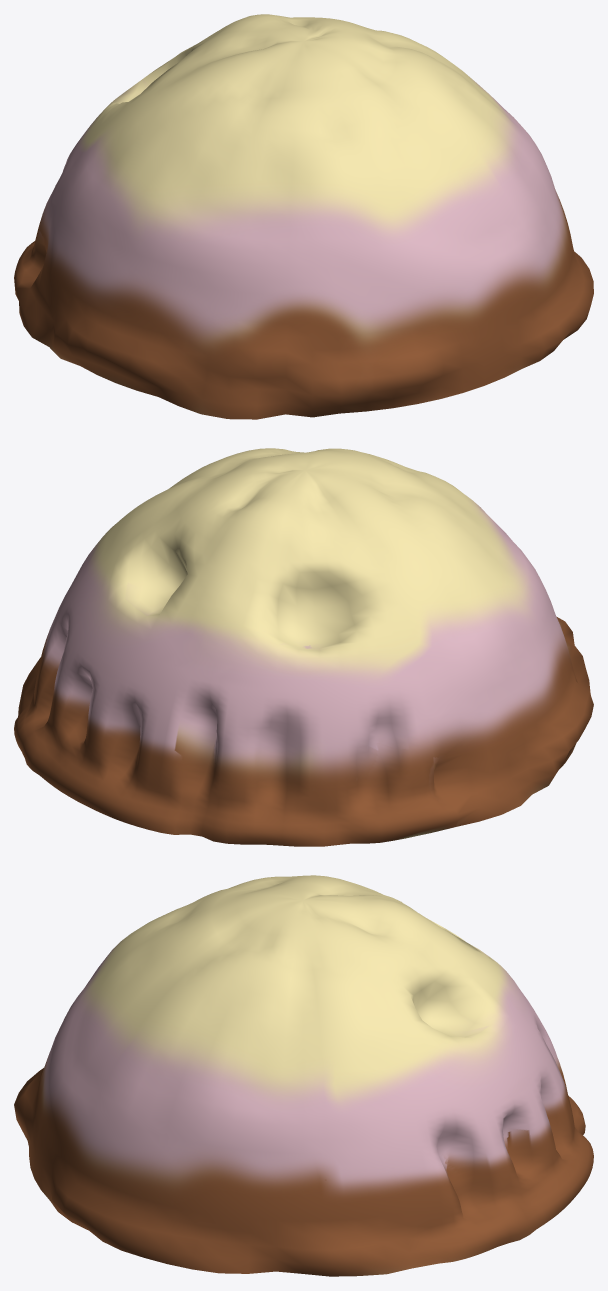
The model's file is neapolitan.glb.
3 views of the same model, one above another, from view 1: azimuth 30°, elevation 25°; view 2: azimuth 150°, elevation 25°; view 3: azimuth 270°, elevation 25° (orthographic).
Visible parts, largest first — view 1: Sphere; view 2: Sphere; view 3: Sphere.
Part boxes in pixels (box(x1,y1,x2,y2)): Sphere: box(14, 14, 593, 419); Sphere: box(14, 448, 593, 846); Sphere: box(14, 875, 593, 1276).
Size of the model in its own units: 33.88 by 16.62 by 33.89.
1 material, 1 textured.
